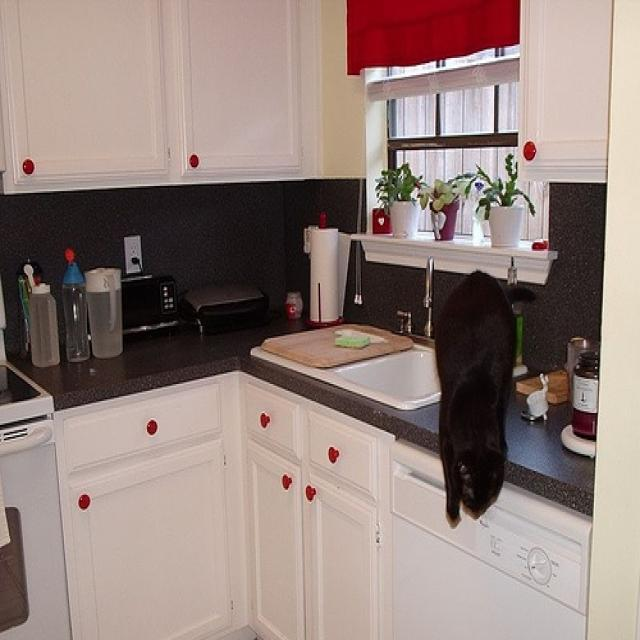bottle: (60, 247, 93, 363), (25, 265, 60, 368)
cat: (432, 271, 517, 525)
pottedplant: (473, 156, 536, 250), (378, 162, 424, 242), (423, 175, 463, 242)
